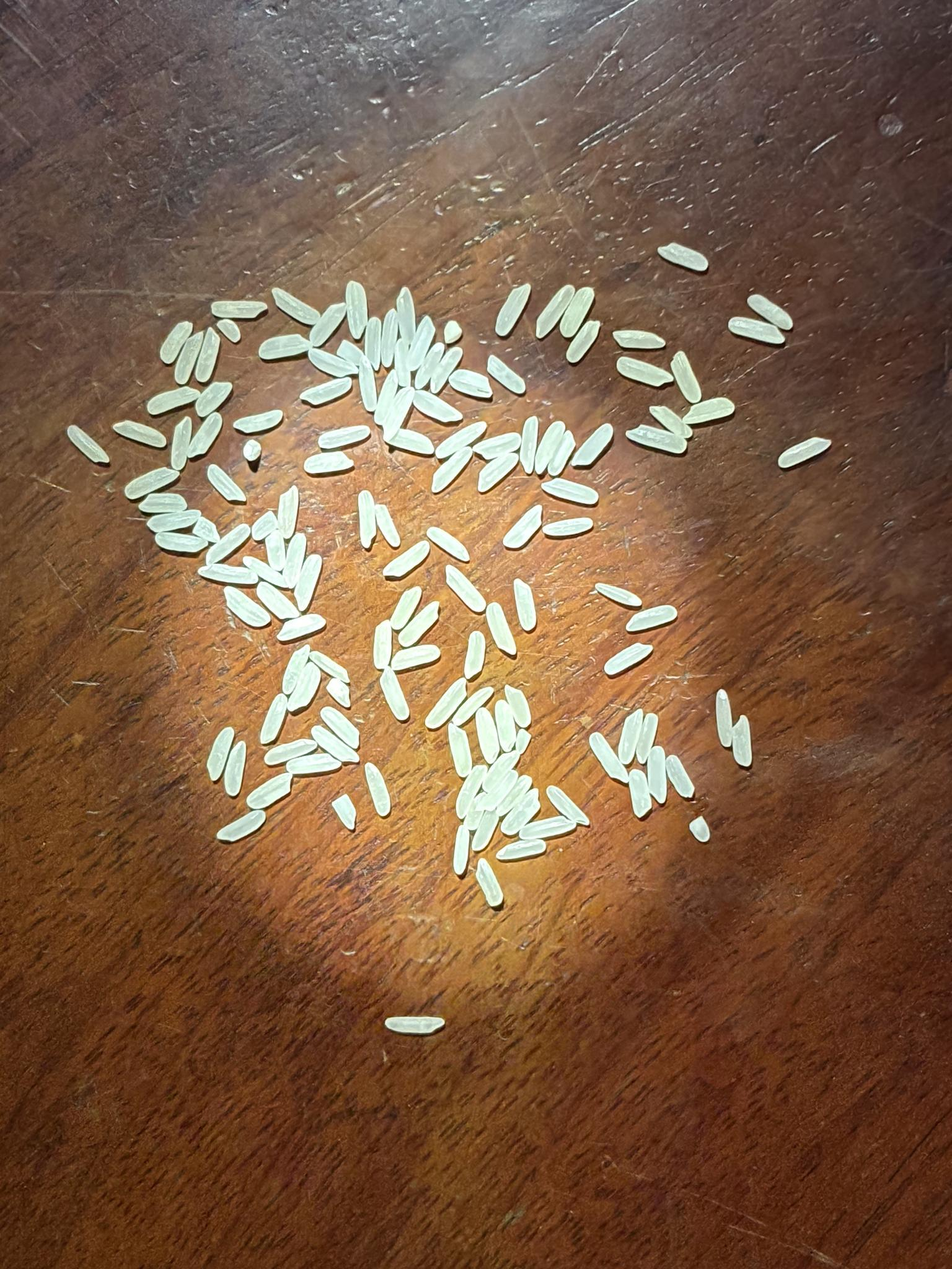Rice-th-y-nh: (424, 677, 469, 730), (222, 583, 271, 631), (534, 284, 577, 338), (198, 556, 258, 594), (529, 419, 568, 476), (443, 564, 487, 614), (269, 287, 323, 327), (339, 280, 375, 339), (397, 600, 441, 648), (430, 446, 474, 494), (434, 420, 488, 459), (349, 489, 384, 548), (667, 350, 705, 404), (512, 415, 546, 475), (503, 503, 545, 551), (494, 283, 531, 337), (627, 422, 687, 455), (572, 422, 615, 468), (204, 522, 251, 564), (123, 465, 179, 500), (381, 539, 431, 578), (507, 577, 543, 631), (476, 450, 521, 493), (558, 286, 595, 338), (588, 732, 628, 780), (255, 581, 303, 621), (311, 725, 360, 764), (271, 485, 306, 539), (615, 355, 672, 388), (382, 387, 415, 444), (746, 292, 794, 331), (277, 532, 311, 587), (545, 784, 590, 825), (481, 749, 521, 795), (308, 302, 348, 348), (412, 388, 463, 424), (203, 725, 236, 780), (484, 602, 518, 655), (377, 667, 411, 720), (725, 715, 759, 768), (603, 640, 653, 676), (477, 772, 522, 812), (293, 553, 324, 611), (246, 772, 293, 810), (777, 436, 831, 469), (215, 808, 267, 842), (727, 314, 784, 345), (542, 475, 599, 506), (320, 705, 361, 748), (172, 330, 204, 385), (454, 765, 487, 818), (426, 525, 472, 563), (65, 425, 109, 464), (429, 345, 464, 394), (287, 663, 322, 712), (186, 412, 223, 458), (648, 403, 694, 440), (502, 793, 541, 836), (493, 773, 532, 816), (565, 319, 602, 364), (242, 554, 289, 589), (317, 421, 370, 452), (453, 686, 494, 726), (205, 464, 247, 503), (658, 241, 709, 273), (221, 741, 250, 797), (682, 395, 736, 425), (458, 630, 491, 679), (146, 384, 198, 415), (263, 736, 315, 767), (280, 643, 311, 695), (486, 354, 525, 395), (112, 419, 167, 448), (363, 762, 392, 817), (166, 416, 195, 471), (258, 331, 311, 361), (300, 376, 352, 406), (307, 347, 357, 378), (373, 369, 400, 426), (625, 604, 678, 633), (407, 317, 436, 370), (414, 342, 446, 390), (193, 380, 233, 418), (277, 611, 326, 642), (194, 329, 222, 383), (211, 295, 267, 322), (259, 692, 288, 744), (475, 707, 501, 765), (159, 320, 193, 364), (389, 586, 422, 631), (147, 507, 200, 535), (390, 643, 441, 672), (368, 620, 397, 670), (387, 426, 435, 456), (617, 709, 644, 762), (518, 815, 575, 840), (355, 353, 380, 410), (138, 488, 187, 517), (446, 724, 473, 776), (303, 449, 355, 476), (475, 859, 504, 907), (664, 754, 695, 798), (474, 431, 521, 460), (309, 650, 350, 683), (154, 530, 208, 555), (543, 513, 593, 540), (634, 712, 660, 763), (626, 769, 653, 818), (394, 288, 418, 343), (548, 430, 576, 477), (372, 503, 401, 548), (233, 409, 285, 434), (593, 581, 642, 607), (503, 685, 532, 728), (262, 529, 291, 572), (612, 328, 666, 351), (646, 746, 668, 802), (493, 702, 518, 751), (713, 691, 735, 746), (471, 810, 500, 851), (286, 753, 340, 775), (379, 310, 400, 366), (451, 367, 493, 395), (496, 838, 545, 861), (383, 1016, 445, 1034), (464, 792, 491, 831), (363, 317, 383, 369), (392, 340, 412, 387), (250, 510, 279, 542), (331, 794, 356, 830), (192, 515, 222, 544), (325, 677, 352, 708), (452, 825, 469, 874), (337, 339, 364, 366), (216, 318, 242, 343), (241, 438, 264, 463), (442, 319, 464, 345), (689, 816, 711, 842), (513, 728, 532, 755)
